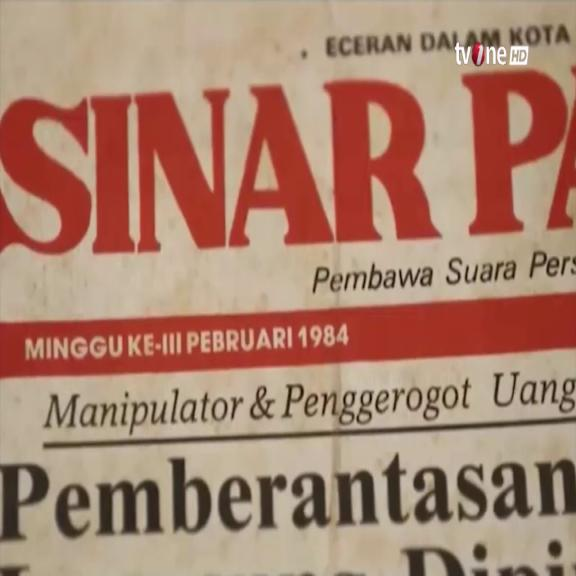Kertas: (1, 1, 569, 571)
